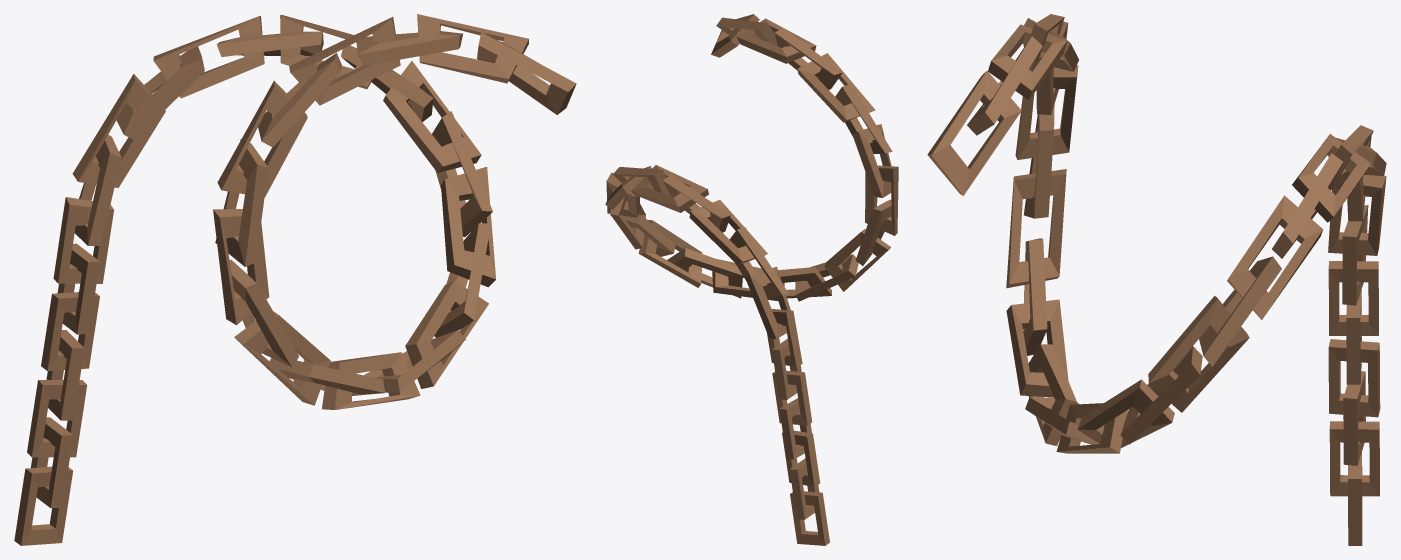
File: Chain_01_Bend_04.fbx
3 views of the same model, side by side, from view 1: azimuth 30°, elevation 25°; view 2: azimuth 150°, elevation 25°; view 3: azimuth 270°, elevation 25° (orthographic). The views are drawn at different scales.
Visible parts, largest first — view 1: Chain_01_Bend_04; view 2: Chain_01_Bend_04; view 3: Chain_01_Bend_04.
Boxes of the visible parts, x1,y1,x2,y2 form: Chain_01_Bend_04: (14,14,576,545); Chain_01_Bend_04: (605,14,898,545); Chain_01_Bend_04: (927,14,1386,545).
Size of the model in its own units: 170 by 245 by 167.
